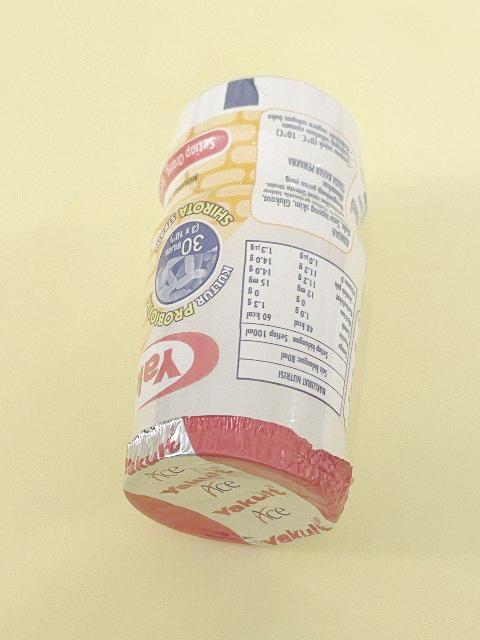plasticbottle: (122, 73, 368, 551)
